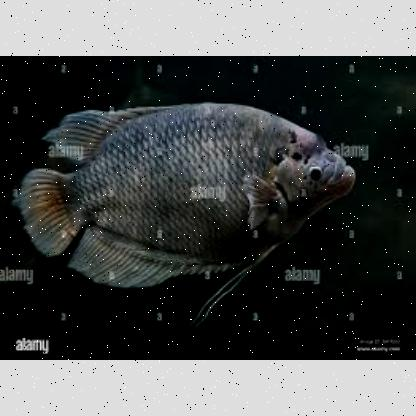gurame: (18, 102, 356, 290)
